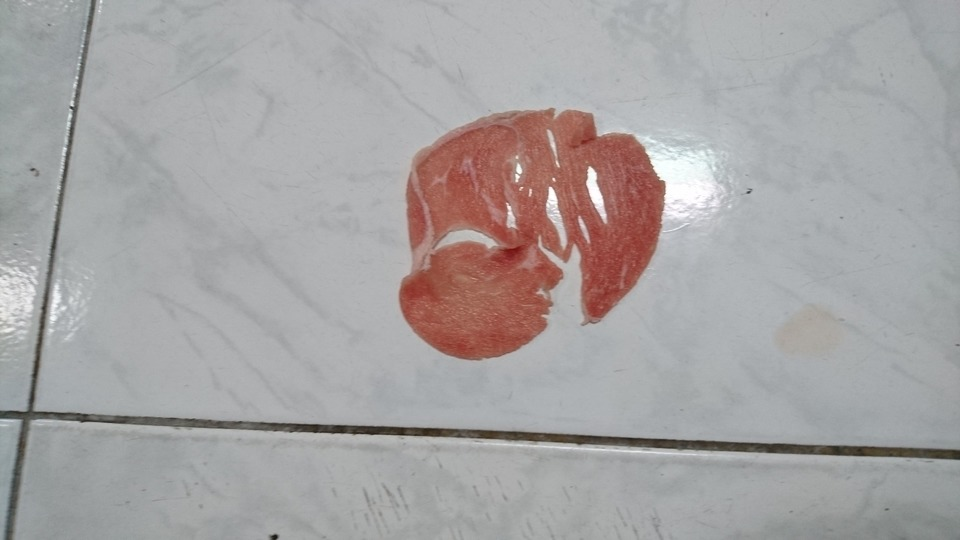restructured meat: (395, 110, 668, 357)
